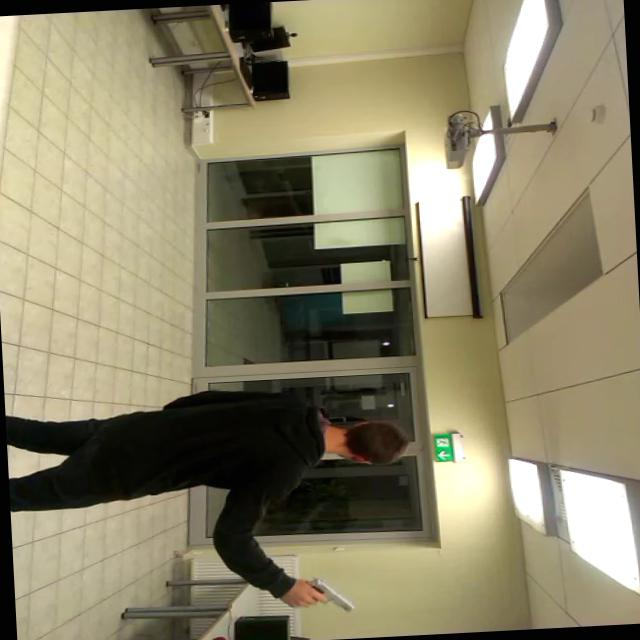handgun: (289, 569, 360, 628)
